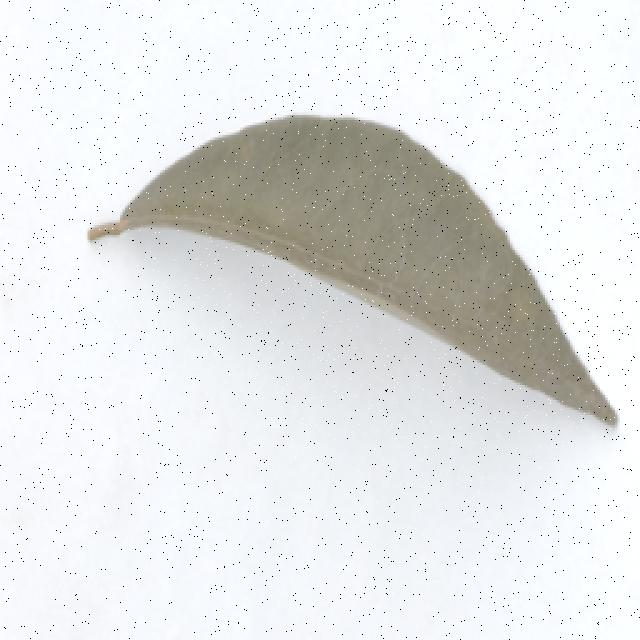healthy: (87, 104, 624, 437)
